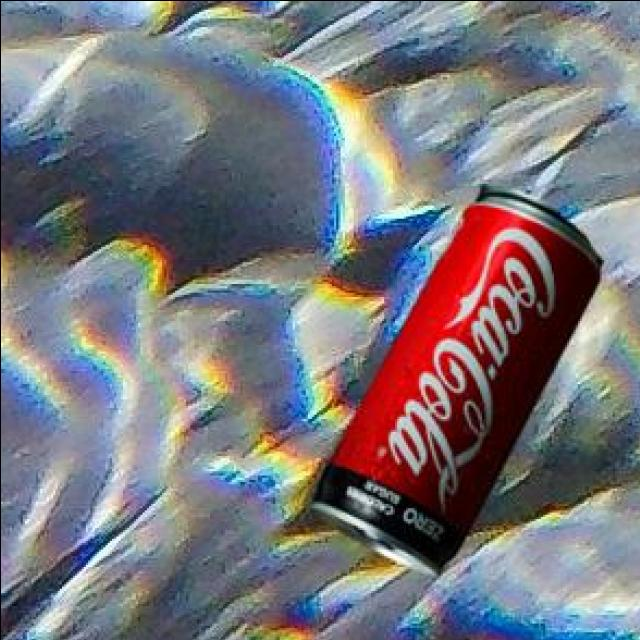logam: (306, 182, 598, 571)
